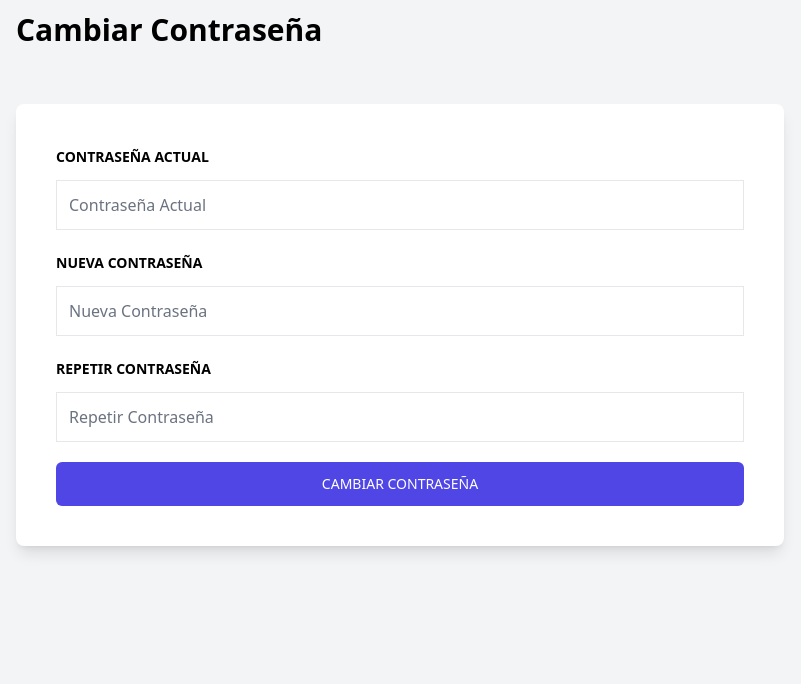
ChangePasswordView › debe validar que la nueva contraseña sea requerida
The image size is (801, 684).
Type "current123" into the password field with placeholder "Contraseña Actual".
click(400, 205); type("current123")  # box [56,180,744,230]
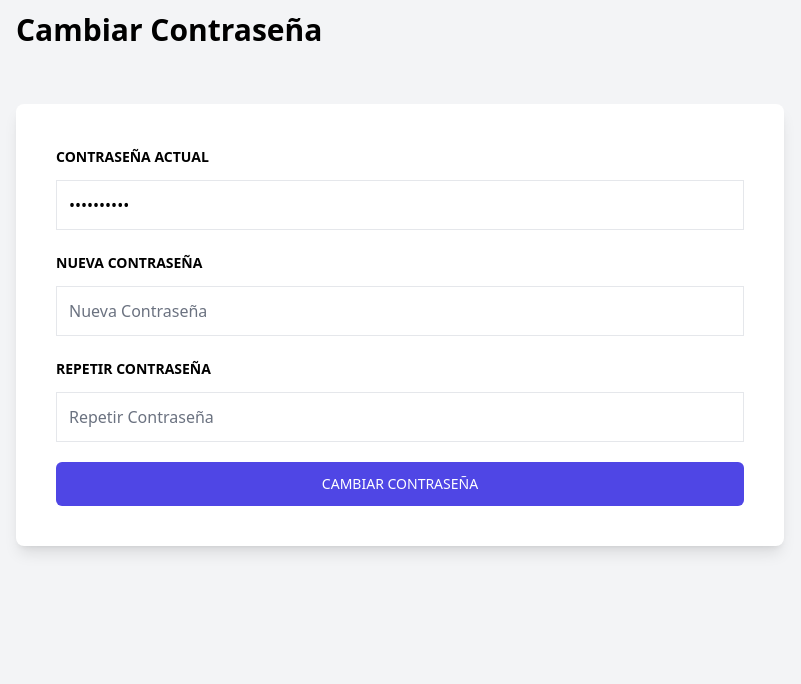
Click the button showing "Cambiar Contraseña".
click(400, 484)  # box [56,462,744,506]
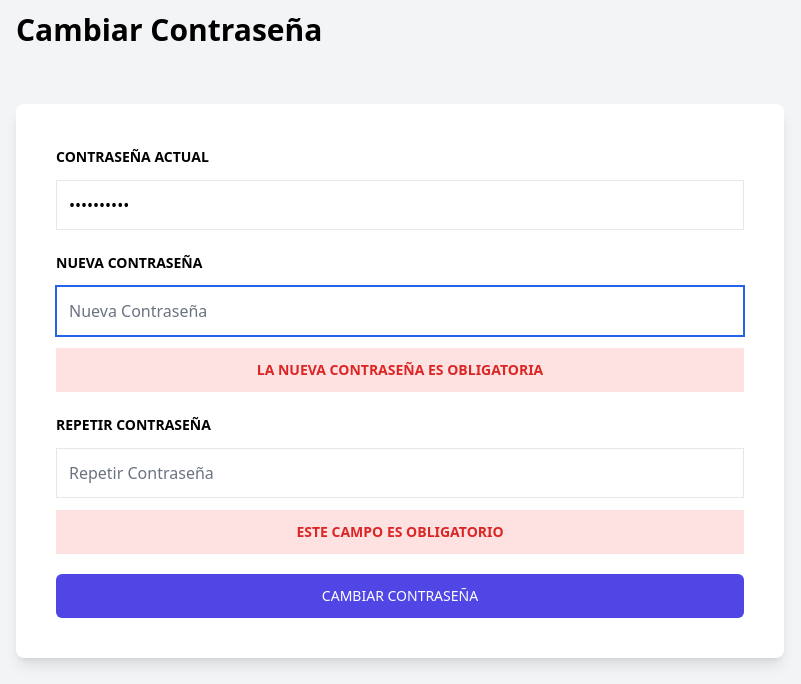
Now the text "La nueva contraseña es obligatoria" is shown, box [56,348,744,392]
